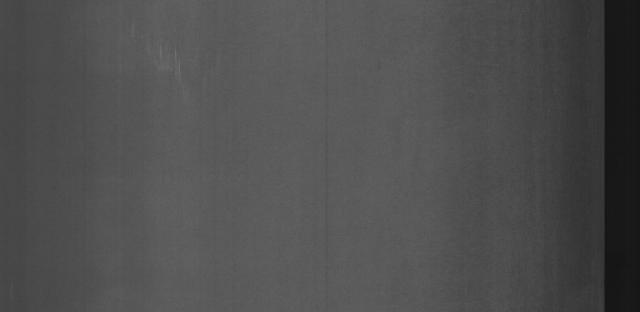silk_spot: (127, 33, 196, 93)
